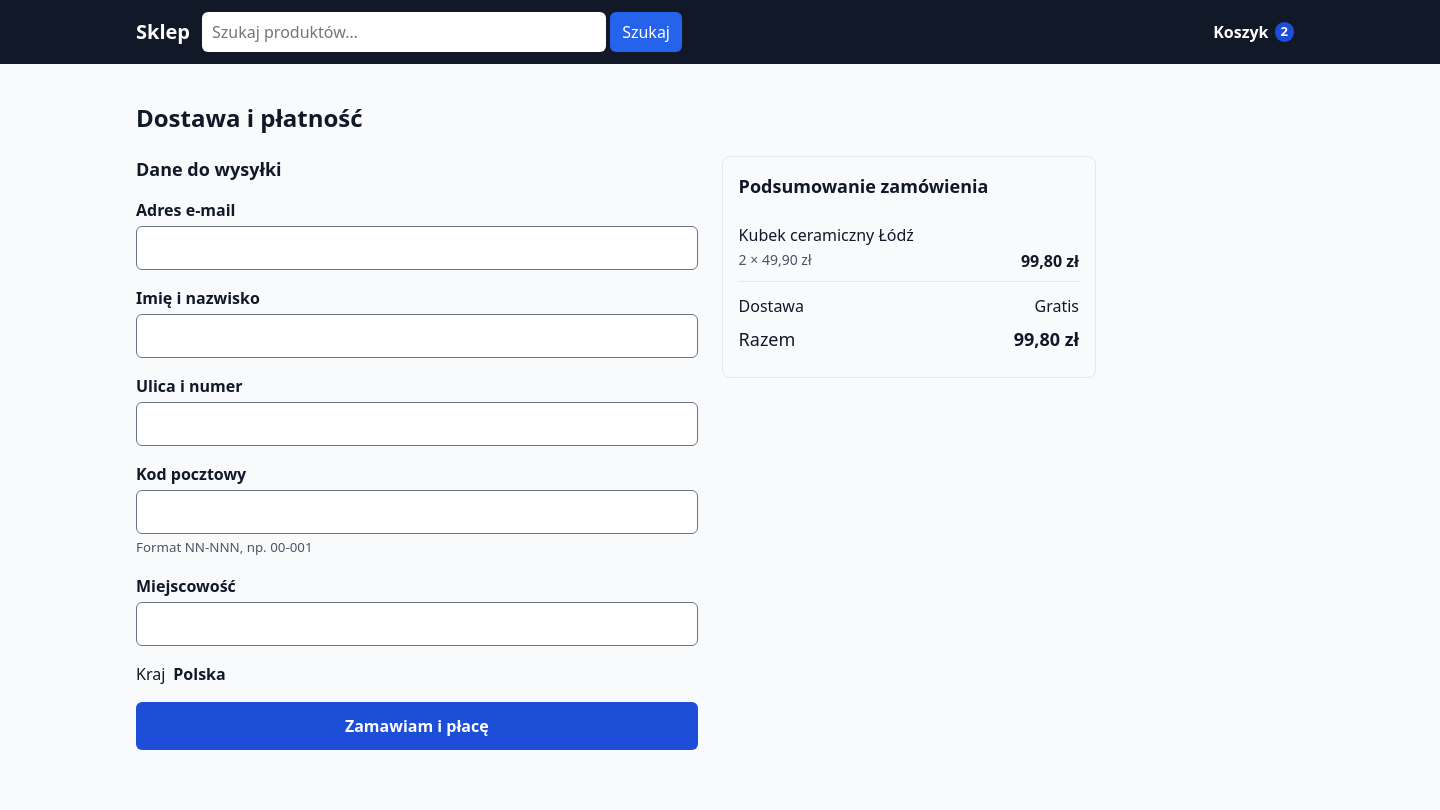
Test: checkout page › explains that the payment is temporarily unavailable
Type "jan@example.com" into the field labelled "Adres e-mail" at (417, 248), box [136,226,698,270]
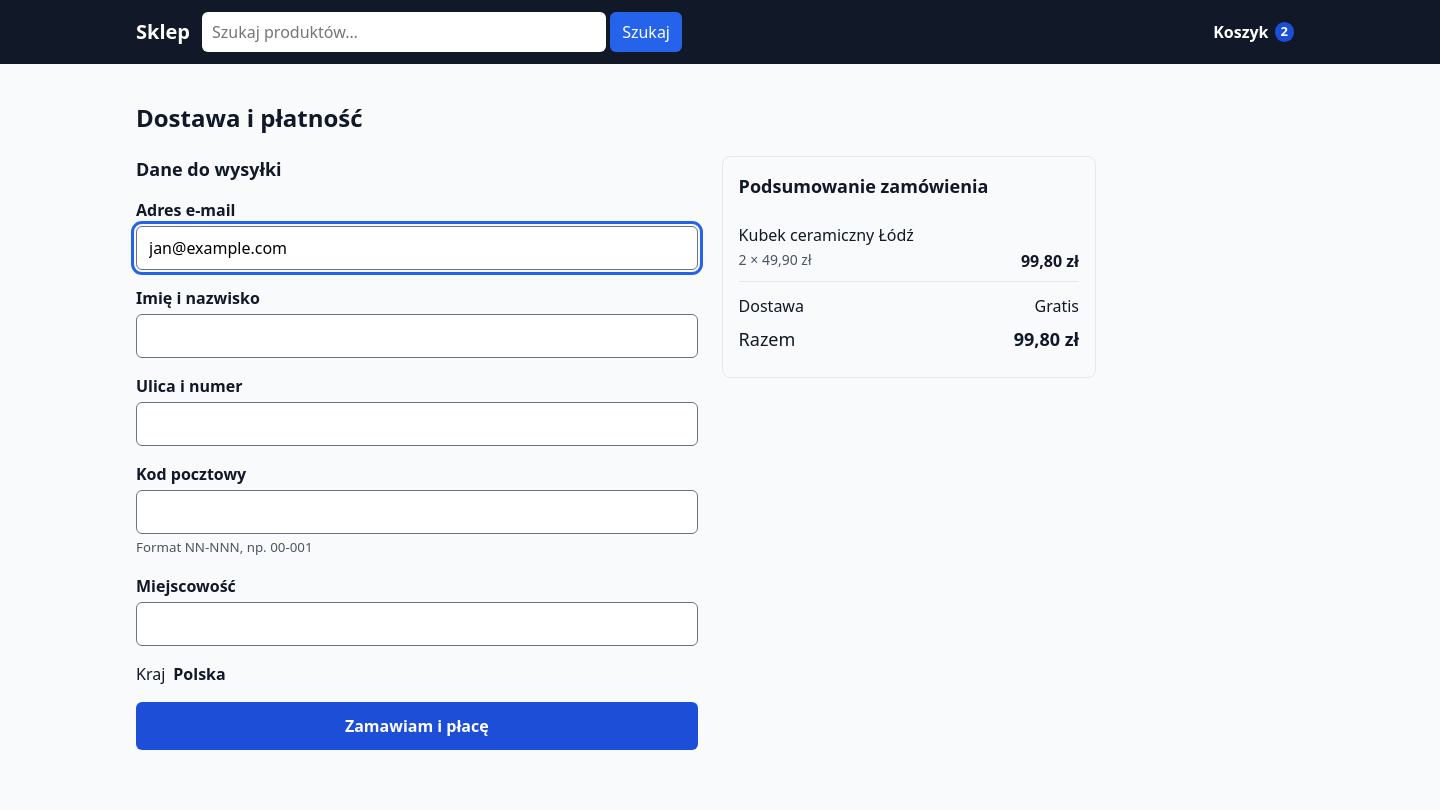
Type "Jan Kowalski" into the field labelled "Imię i nazwisko" at (417, 336), box [136,314,698,358]
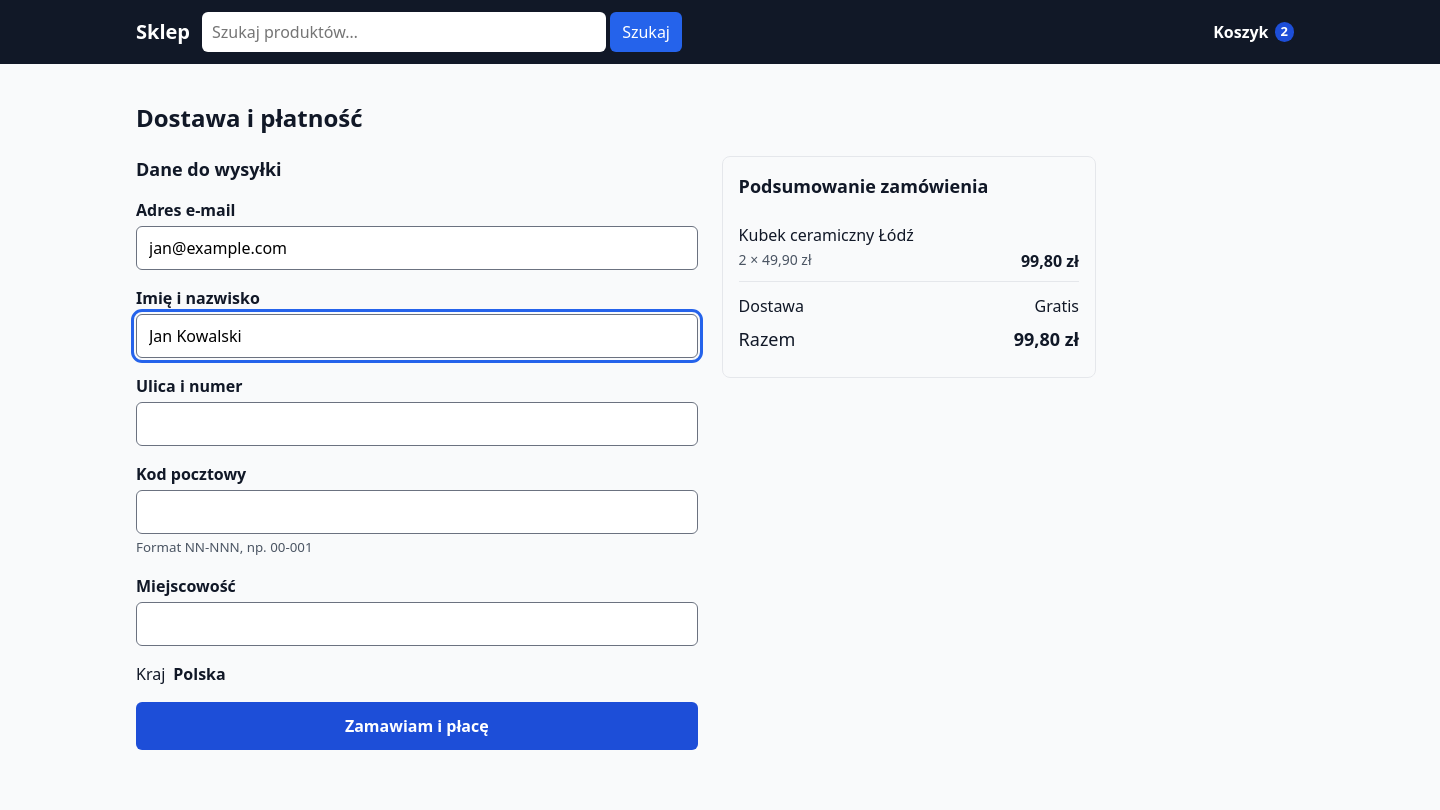
Type "ul. Długa 5" into the field labelled "Ulica i numer" at (417, 424), box [136,402,698,446]
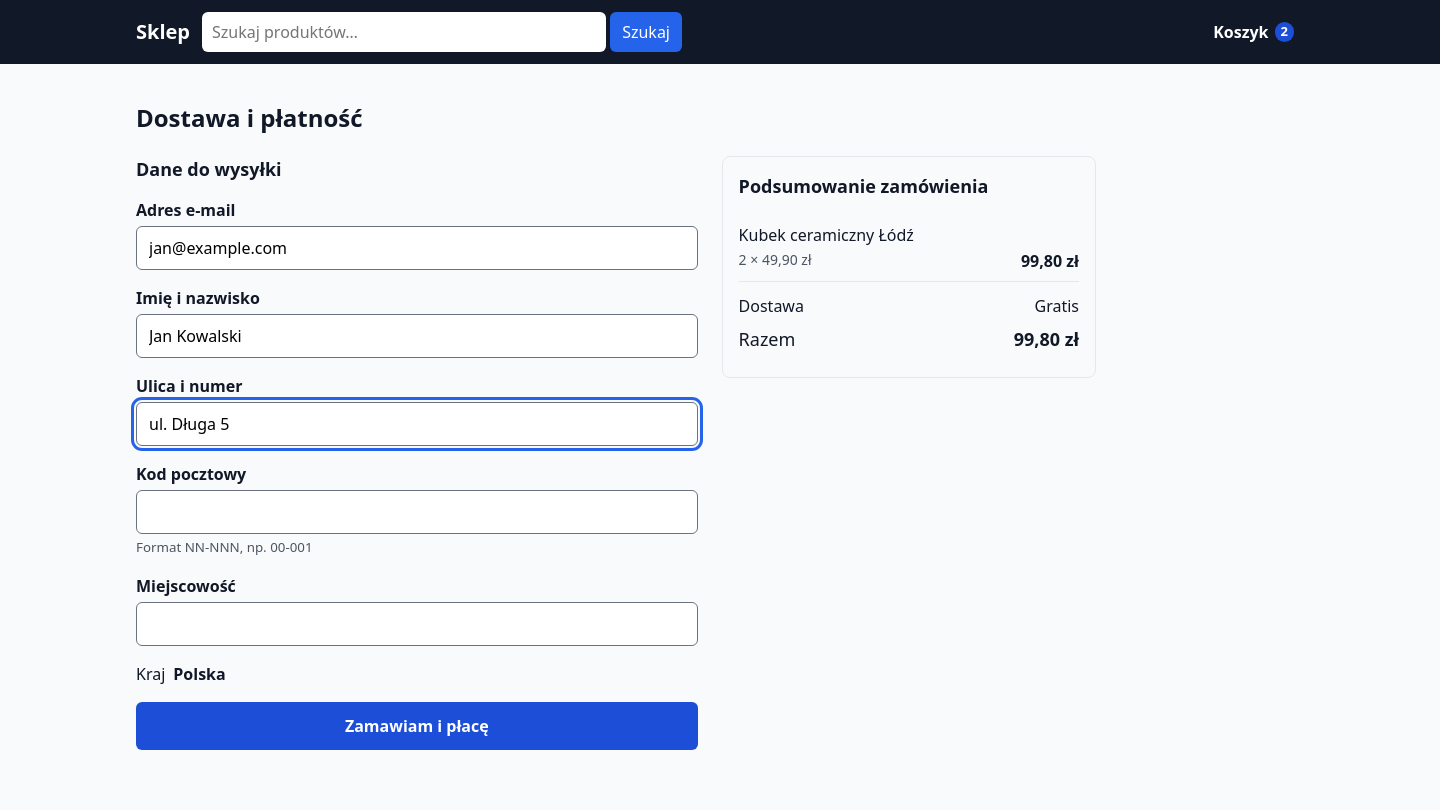
Type "80-001" into the field labelled "Kod pocztowy" at (417, 512), box [136,490,698,534]
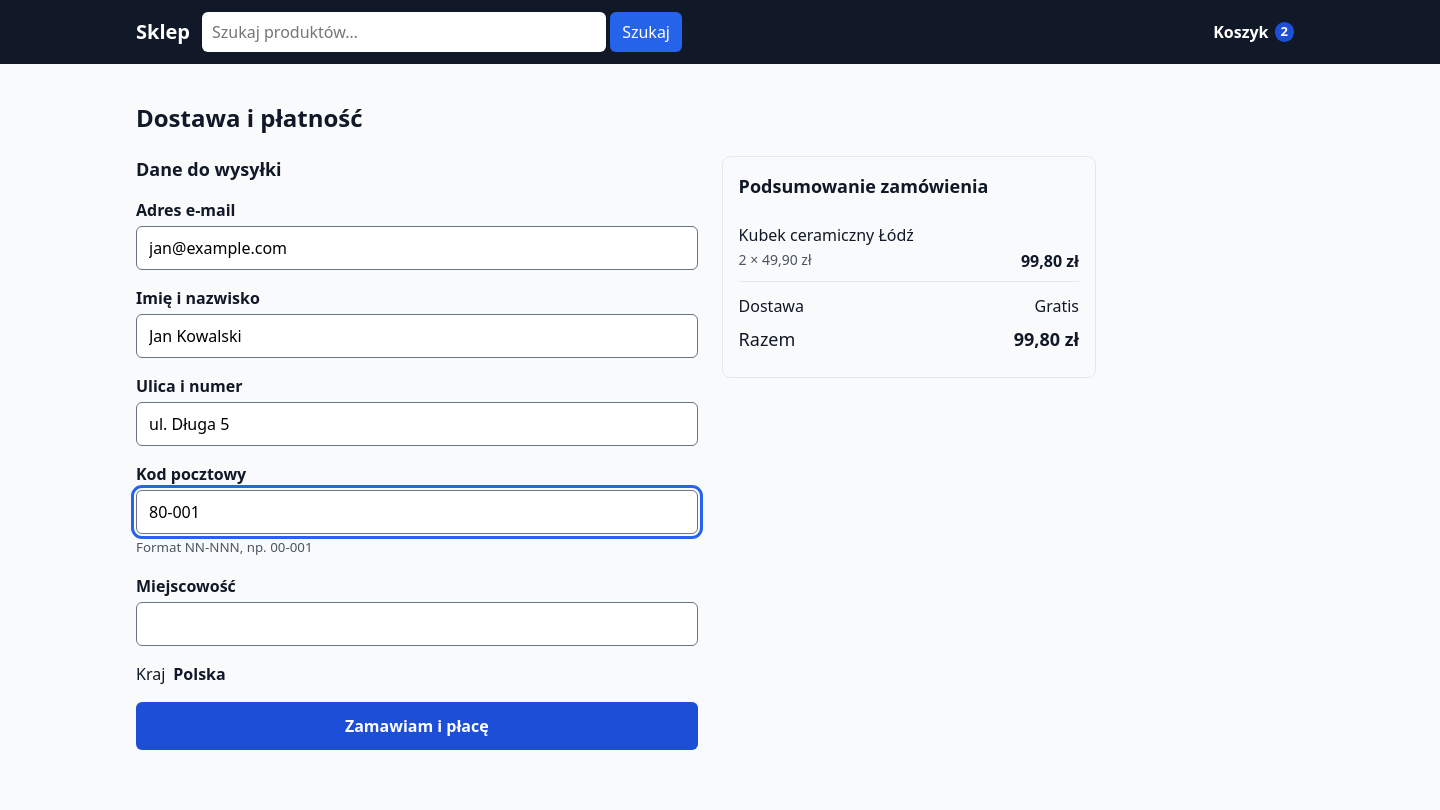
Type "Gdańsk" into the field labelled "Miejscowość" at (417, 624), box [136,602,698,646]
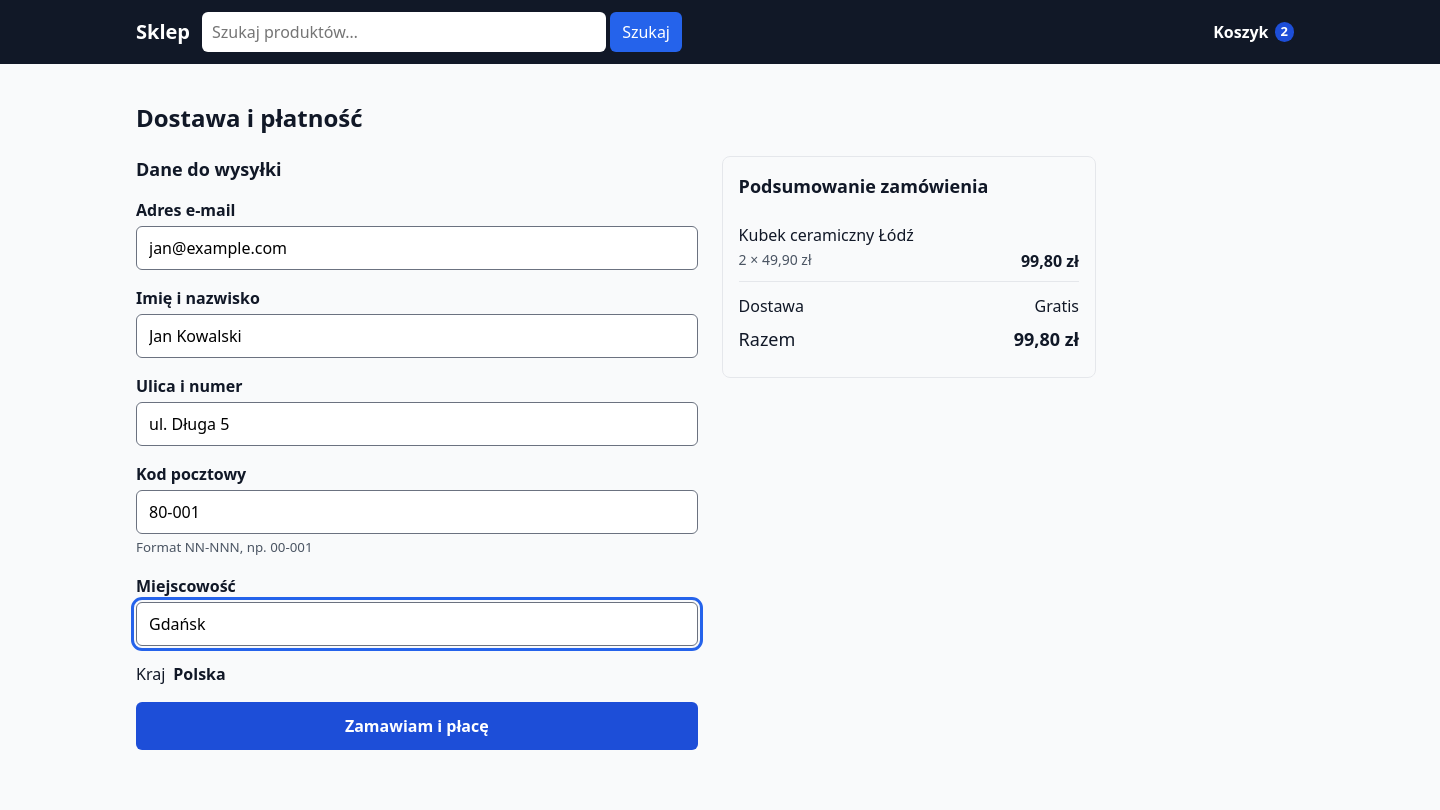
Click the button "Zamawiam i płacę" at (417, 726), box [136,702,698,750]
(page scrolled)
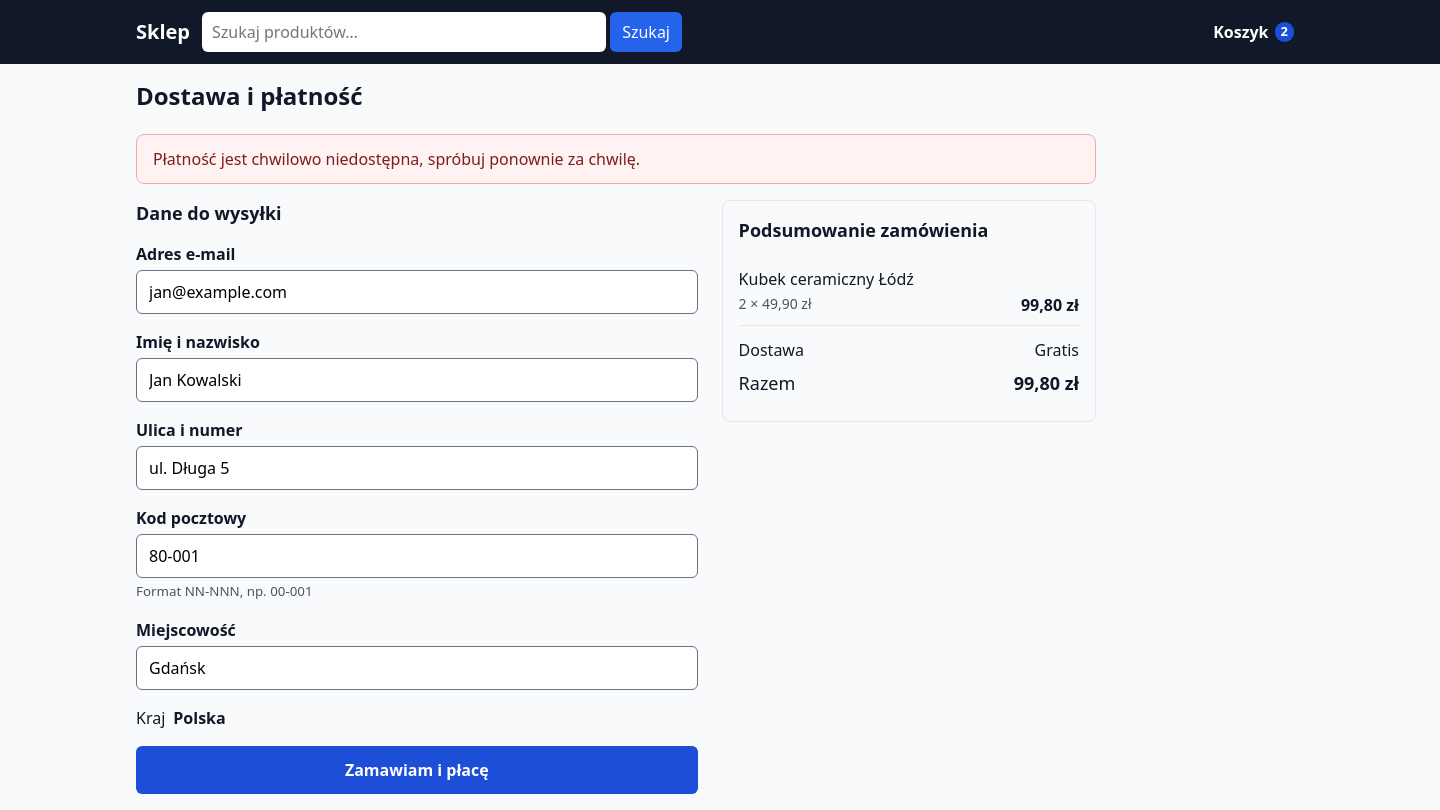
Expected: the button "Zamawiam i płacę" is enabled, [136,746,698,794]
Expected: the text "Płatność jest chwilowo niedostępna, spróbuj ponownie za chwilę." is shown, [153,148,640,170]
